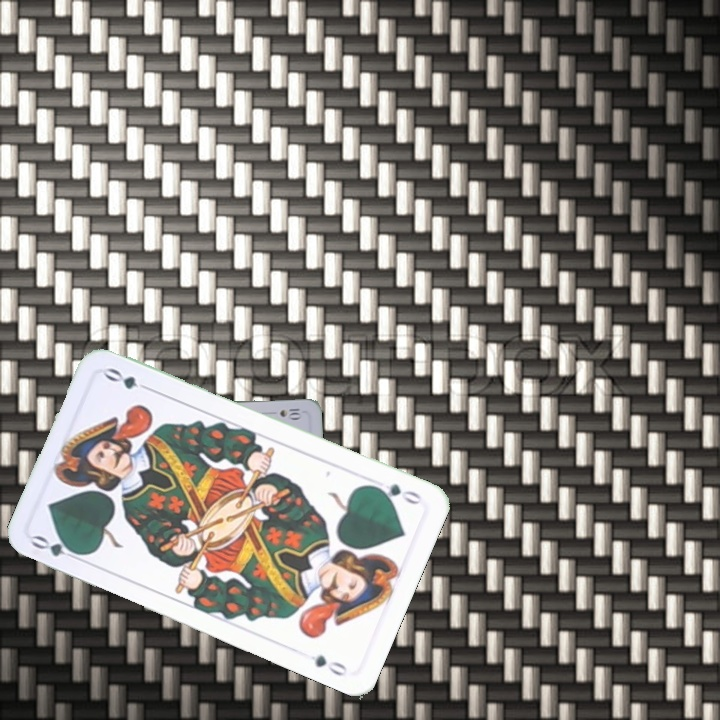GO: (27, 531, 87, 564), (367, 479, 425, 508)
S10: (276, 404, 304, 421)
